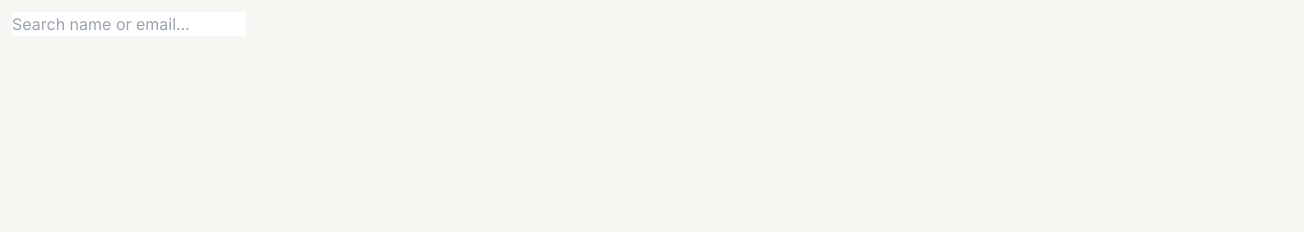
Test: ContactEmailAutocomplete keyboard and filtering › closes the list on Escape
Type "al" into the dropdown labelled "email" at (129, 24), box x1=12 y1=12 x2=246 y2=36
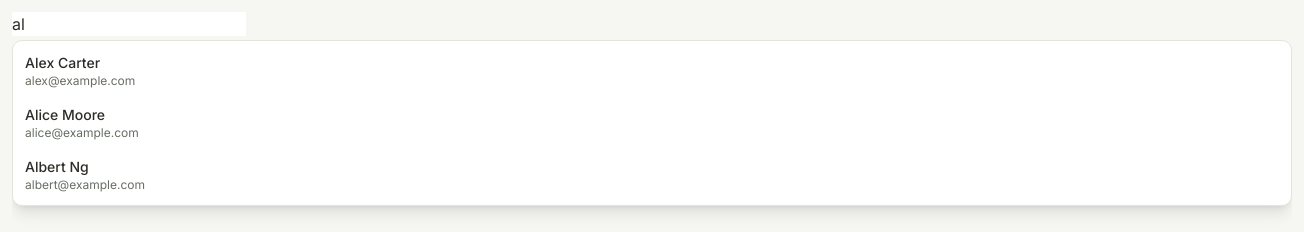
expect the list is shown: met
Press Escape in the dropdown named "email", box x1=12 y1=12 x2=246 y2=36
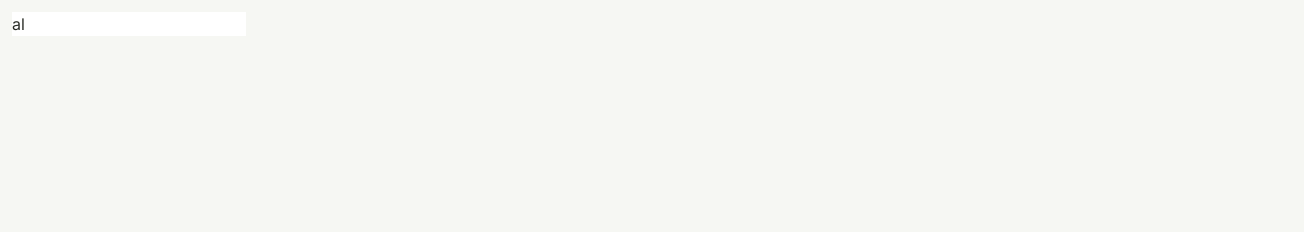
expect the list is gone: met
